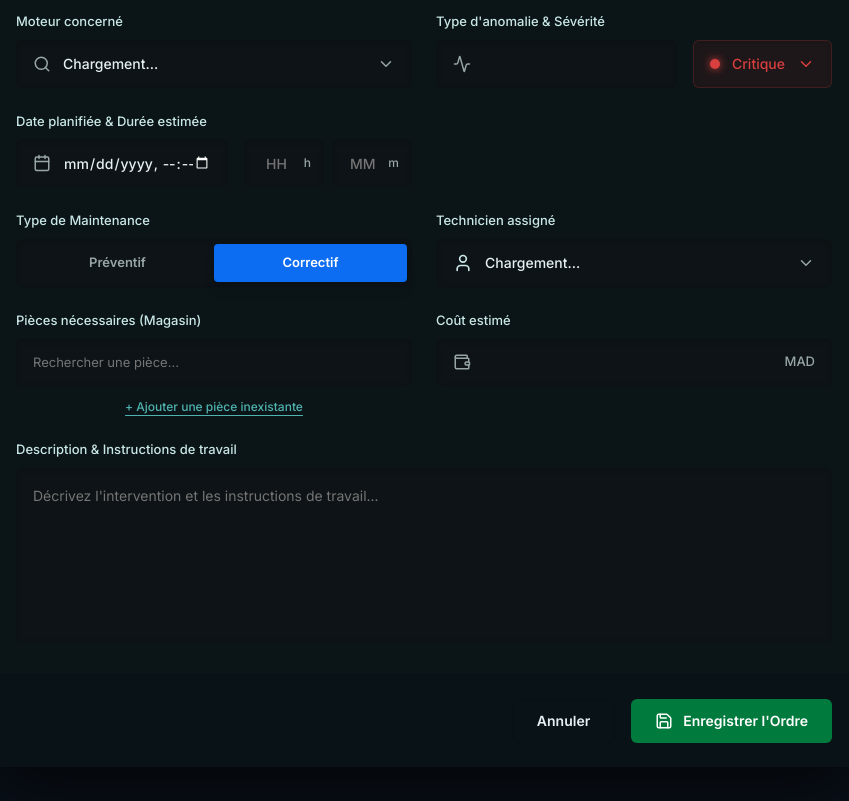
Test: OTForm › allows changing severity via dropdown
This screenshot has width=849, height=801.
Check: the text "Critique" is shown, box [732,53,785,74]
What coordinates should you click on to do the following:
click the button "Critique"
I would click on:
 (763, 64)
Its box is [693,40,832,88].
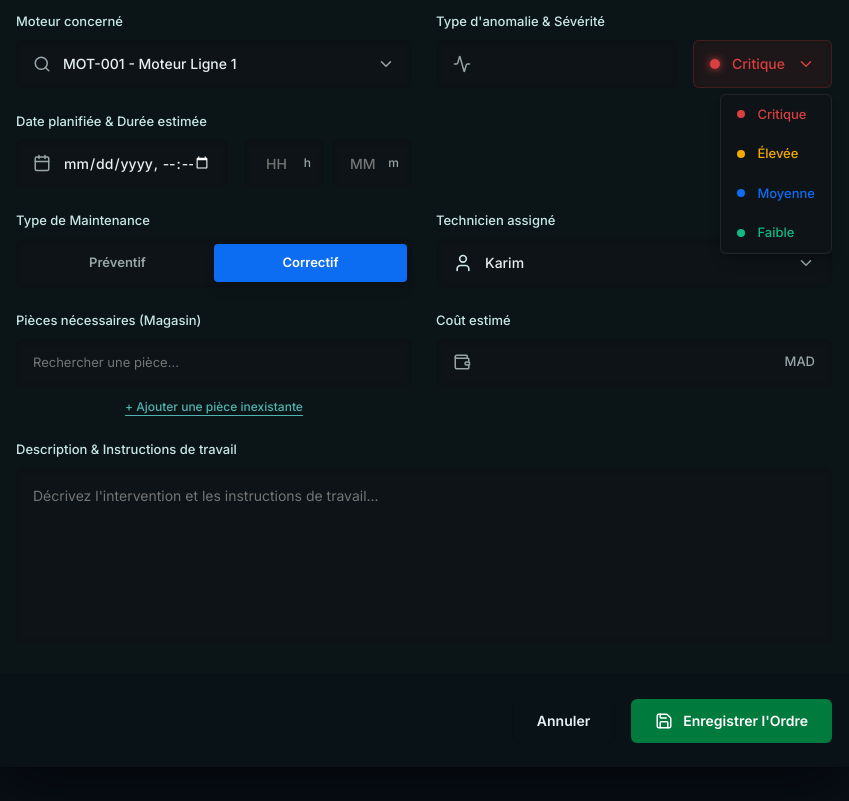
What coordinates should you click on to do the following:
click the button "Élevée"
I would click on:
 (776, 154)
Its box is [721,134,831,174].
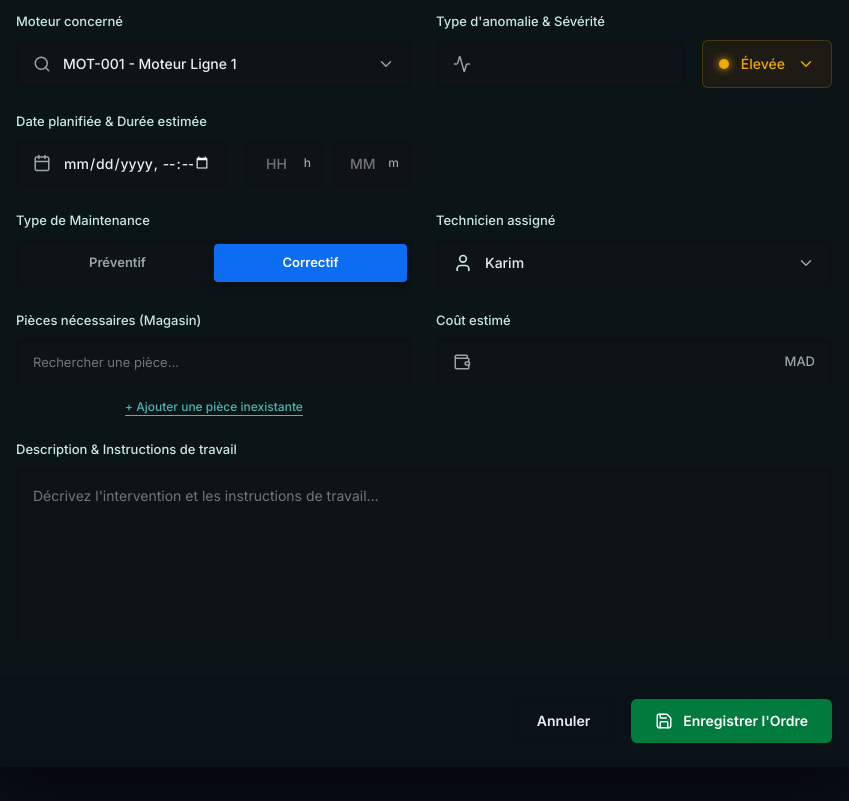
Check: the text "Élevée" is shown, box [741,53,785,74]
